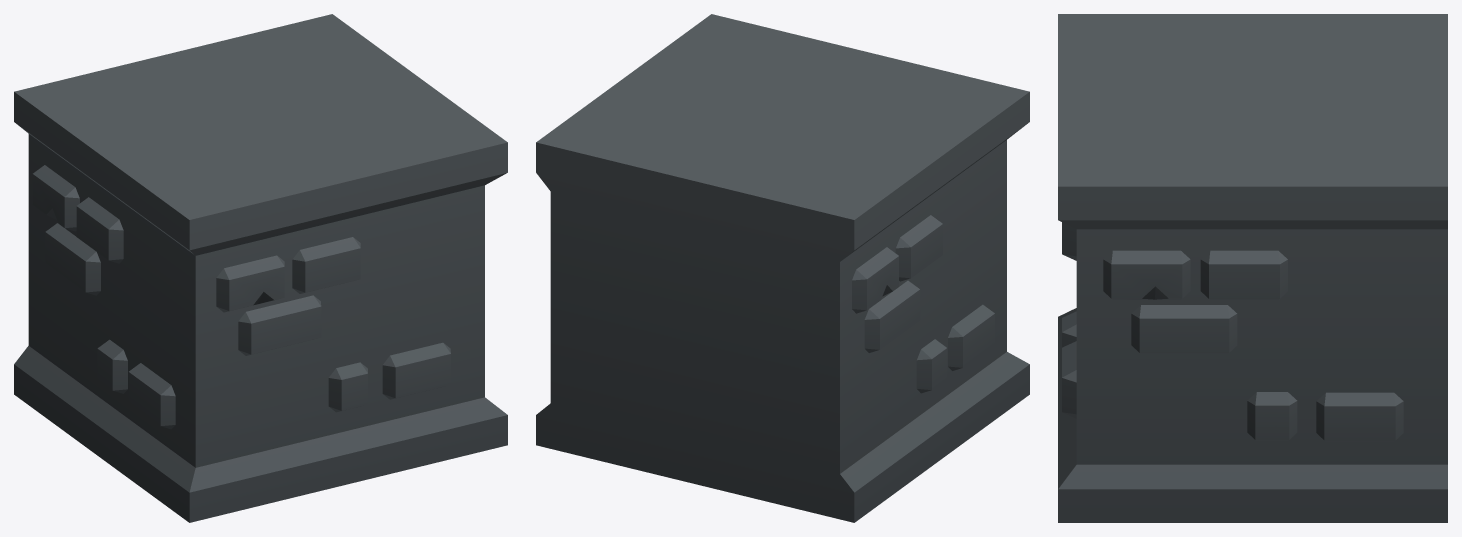
Rendered from floor_foundation_front_and_sides.gltf.
3 views of the same model, side by side, from view 1: azimuth 30°, elevation 25°; view 2: azimuth 150°, elevation 25°; view 3: azimuth 270°, elevation 25° (orthographic). The views are drawn at different scales.
Visible parts, largest first — view 1: floor_foundation_front_and_sides; view 2: floor_foundation_front_and_sides; view 3: floor_foundation_front_and_sides.
Boxes of the visible parts, x1,y1,x2,y2 form: floor_foundation_front_and_sides: [14, 14, 507, 522]; floor_foundation_front_and_sides: [536, 14, 1029, 522]; floor_foundation_front_and_sides: [1058, 14, 1447, 522].
Bounding box in the file's own units: 2.2 × 2 × 2.1.
1 material, 1 textured.
